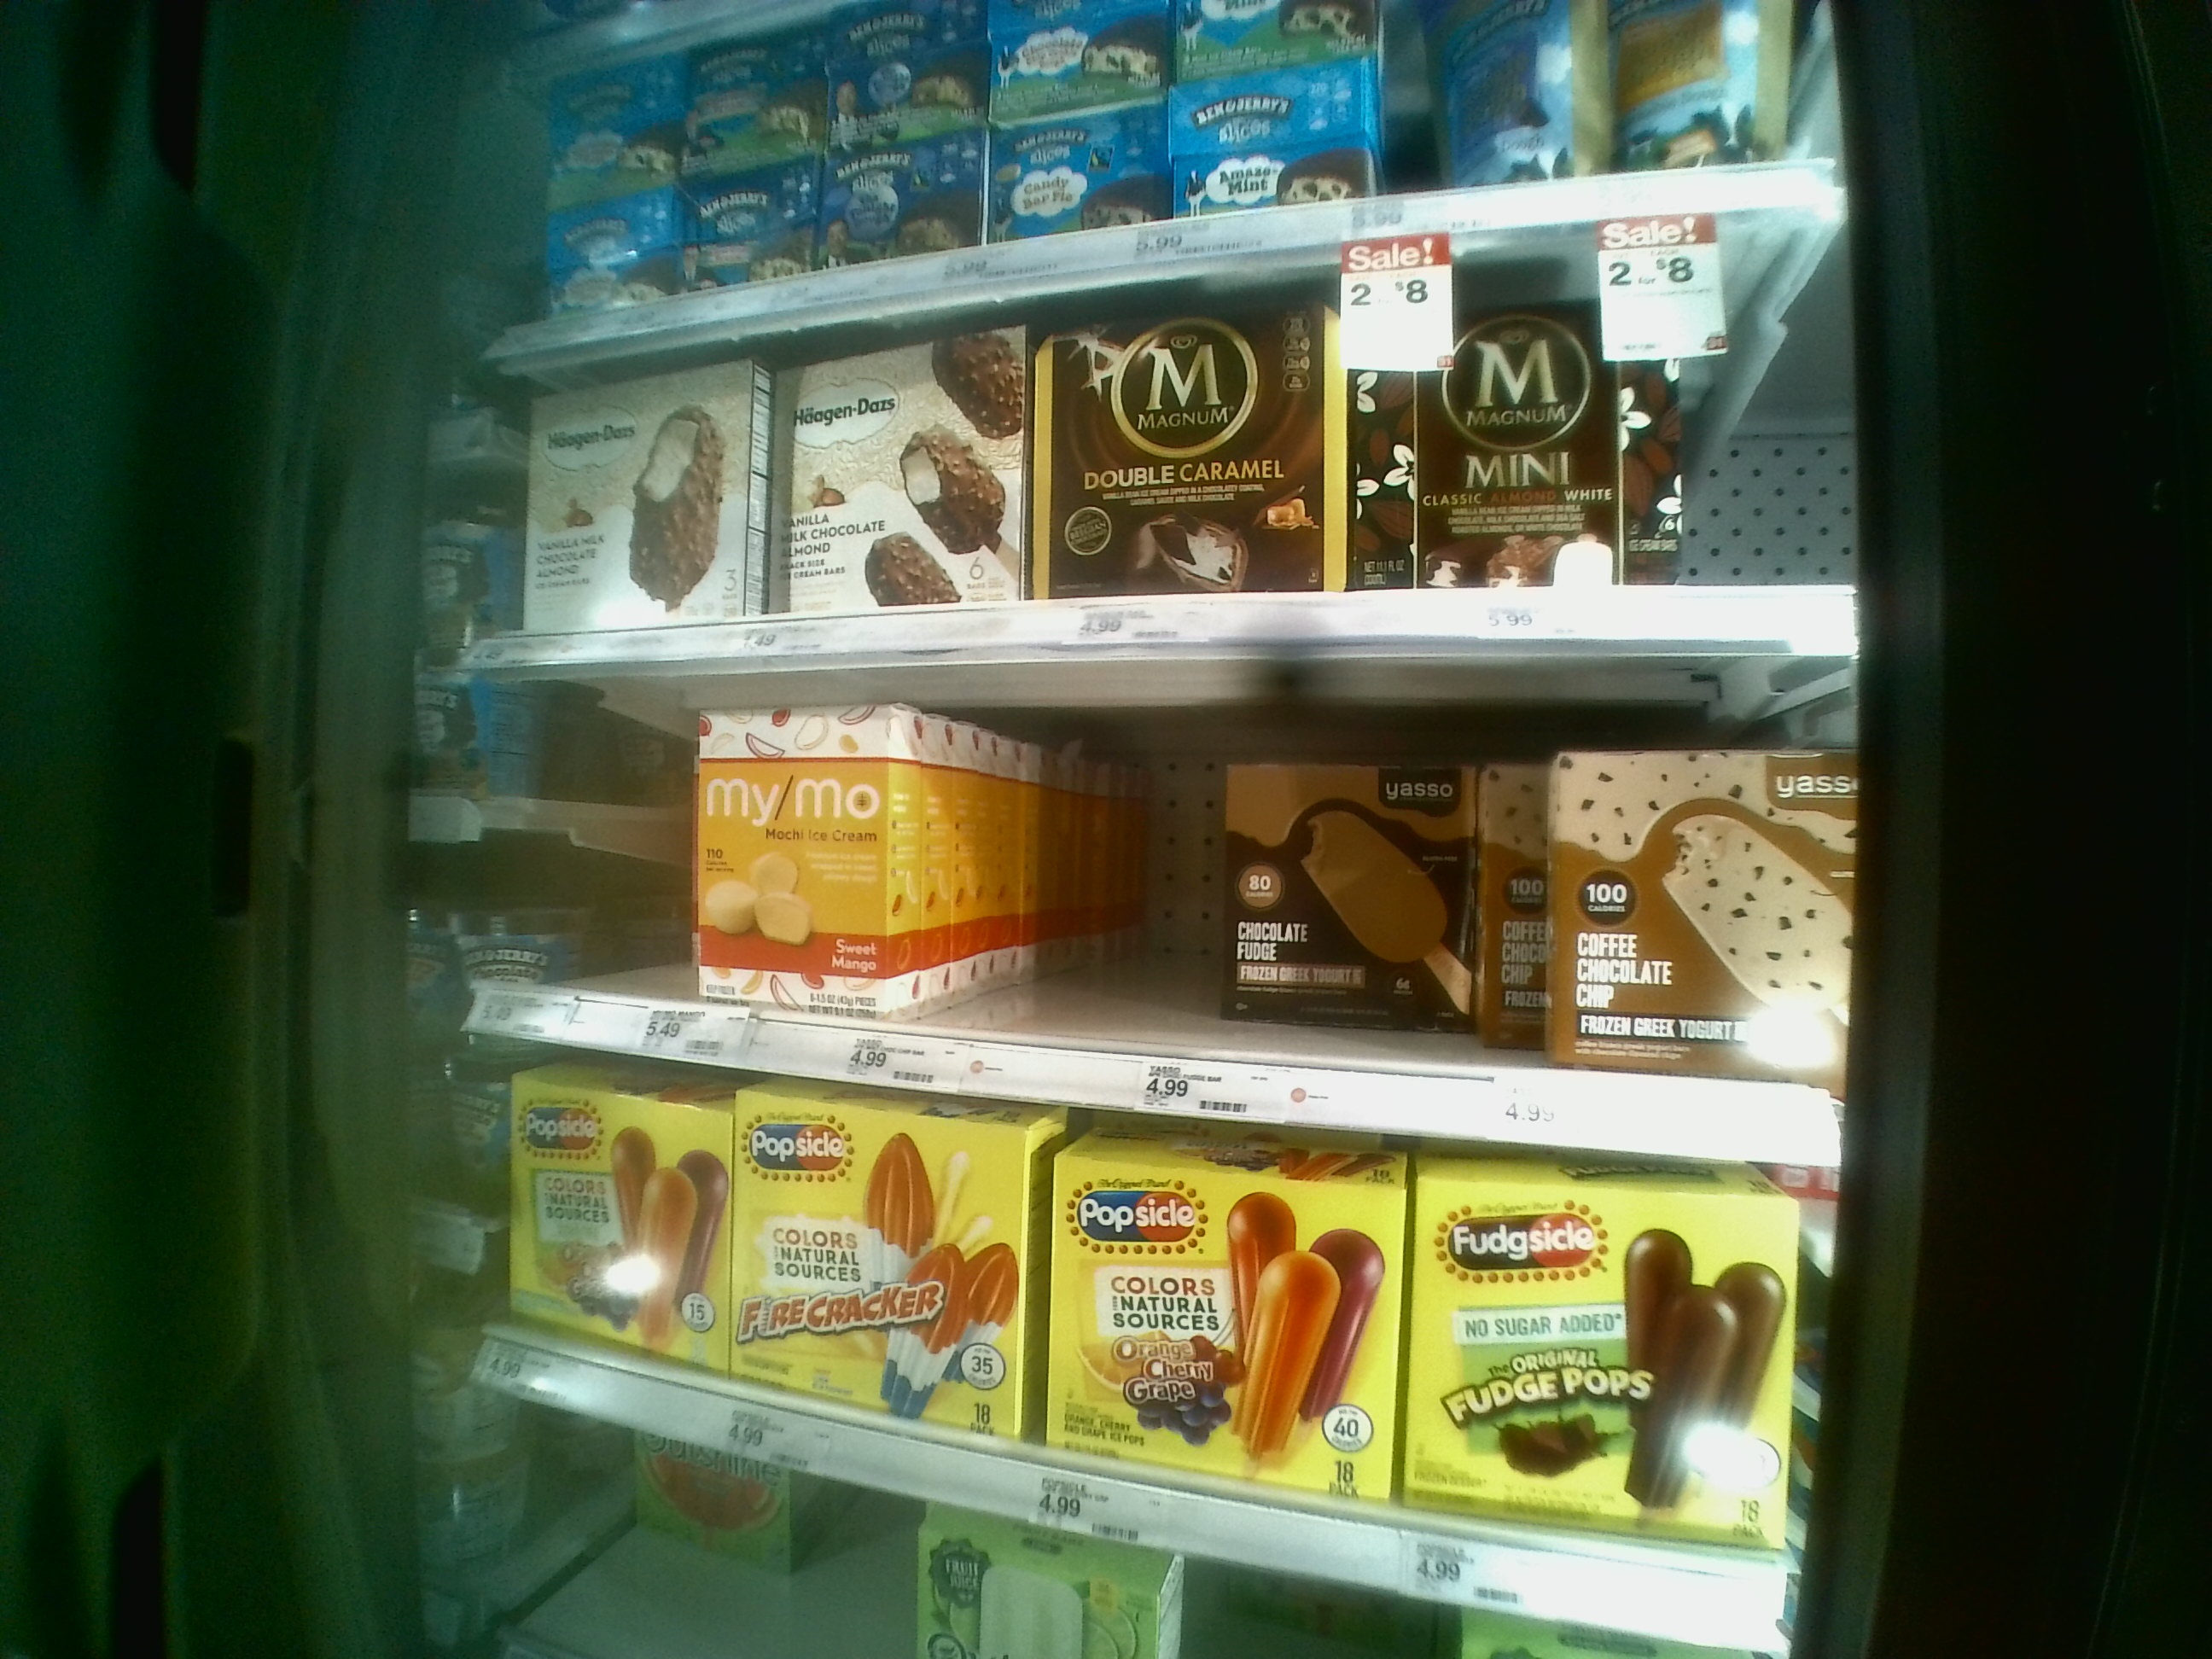ice-cream-shelf: (467, 669, 1839, 1115)
